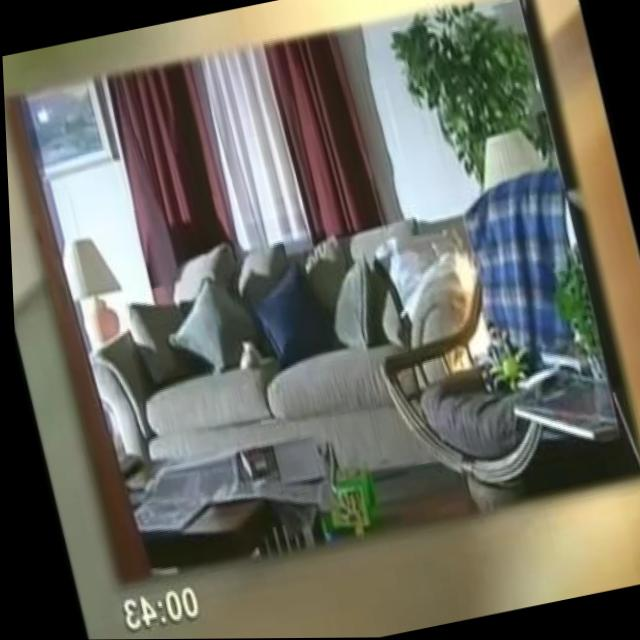fire: (418, 241, 496, 371)
